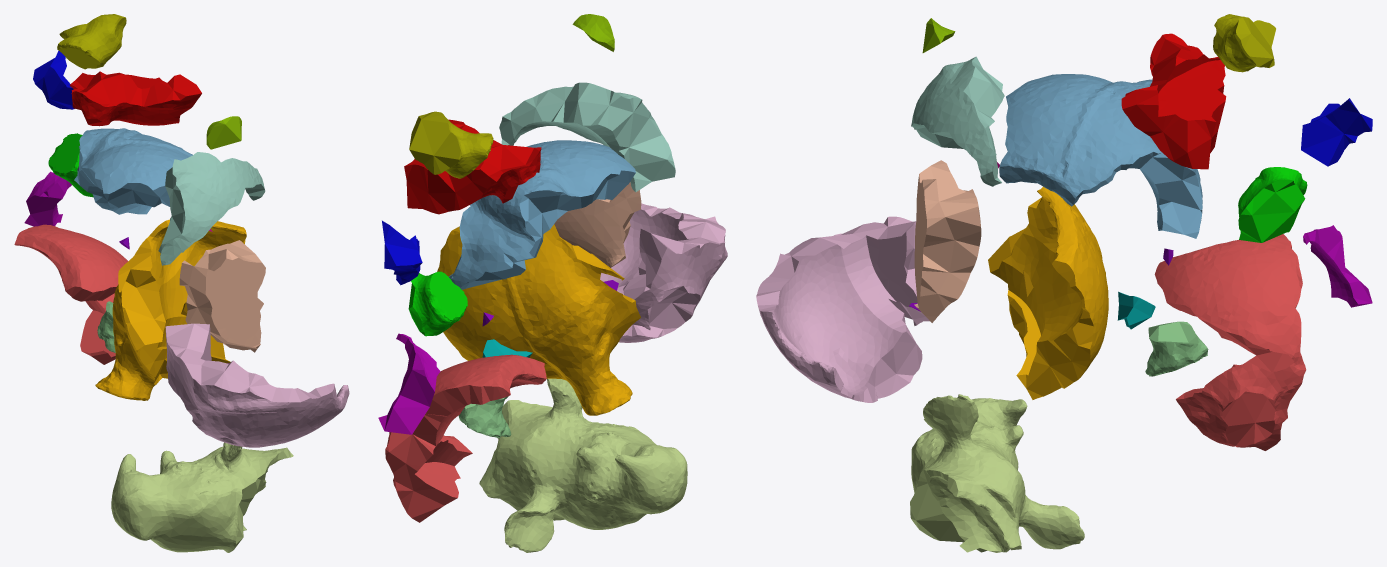
Rendered from fractured_7_20pcs_transformed.glb.
3 views of the same model, side by side, from view 1: azimuth 30°, elevation 25°; view 2: azimuth 150°, elevation 25°; view 3: azimuth 270°, elevation 25° (orthographic). The views are drawn at different scales.
Parts seen in each view (by area): view 1: piece_5.obj, piece_6.obj, piece_0.obj, piece_2.obj, piece_7.obj, piece_4.obj, piece_1.obj, piece_9.obj, piece_11.obj, piece_12.obj, piece_10.obj, piece_8.obj (+2 smaller); view 2: piece_5.obj, piece_0.obj, piece_2.obj, piece_6.obj, piece_1.obj, piece_4.obj, piece_9.obj, piece_7.obj, piece_11.obj, piece_12.obj, piece_8.obj, piece_10.obj (+3 smaller); view 3: piece_6.obj, piece_1.obj, piece_2.obj, piece_5.obj, piece_0.obj, piece_9.obj, piece_7.obj, piece_4.obj, piece_8.obj, piece_11.obj, piece_10.obj, piece_3.obj (+2 smaller).
Boxes of the visible parts, <box> form: piece_5.obj: <box>111,442,293,552</box>; piece_6.obj: <box>165,323,349,447</box>; piece_0.obj: <box>95,219,246,400</box>; piece_2.obj: <box>74,128,192,214</box>; piece_7.obj: <box>179,240,265,352</box>; piece_4.obj: <box>158,152,265,265</box>; piece_1.obj: <box>14,224,128,364</box>; piece_9.obj: <box>69,71,201,126</box>; piece_11.obj: <box>57,14,126,69</box>; piece_12.obj: <box>24,171,71,226</box>; piece_10.obj: <box>33,50,74,109</box>; piece_8.obj: <box>48,133,93,197</box>; piece_5.obj: <box>479,378,687,552</box>; piece_0.obj: <box>437,224,640,415</box>; piece_2.obj: <box>449,140,635,289</box>; piece_6.obj: <box>600,203,727,342</box>; piece_1.obj: <box>385,354,546,522</box>; piece_4.obj: <box>499,82,675,192</box>; piece_9.obj: <box>404,119,541,214</box>; piece_7.obj: <box>554,182,641,267</box>; piece_11.obj: <box>409,111,493,178</box>; piece_12.obj: <box>378,333,440,434</box>; piece_8.obj: <box>408,271,467,336</box>; piece_10.obj: <box>382,220,422,285</box>; piece_6.obj: <box>756,216,929,402</box>; piece_1.obj: <box>1154,234,1306,450</box>; piece_2.obj: <box>999,74,1202,238</box>; piece_5.obj: <box>910,394,1084,552</box>; piece_0.obj: <box>988,186,1108,399</box>; piece_9.obj: <box>1121,33,1226,169</box>; piece_7.obj: <box>914,160,981,322</box>; piece_4.obj: <box>911,56,1004,186</box>; piece_8.obj: <box>1238,167,1307,242</box>; piece_11.obj: <box>1213,14,1275,72</box>; piece_10.obj: <box>1301,98,1372,166</box>; piece_3.obj: <box>1145,321,1208,376</box>.
Size of the model in its own units: 0.5526 by 1.35 by 1.42.
